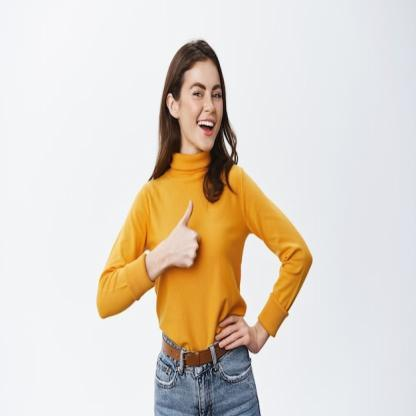thumb_up: (166, 194, 202, 273)
